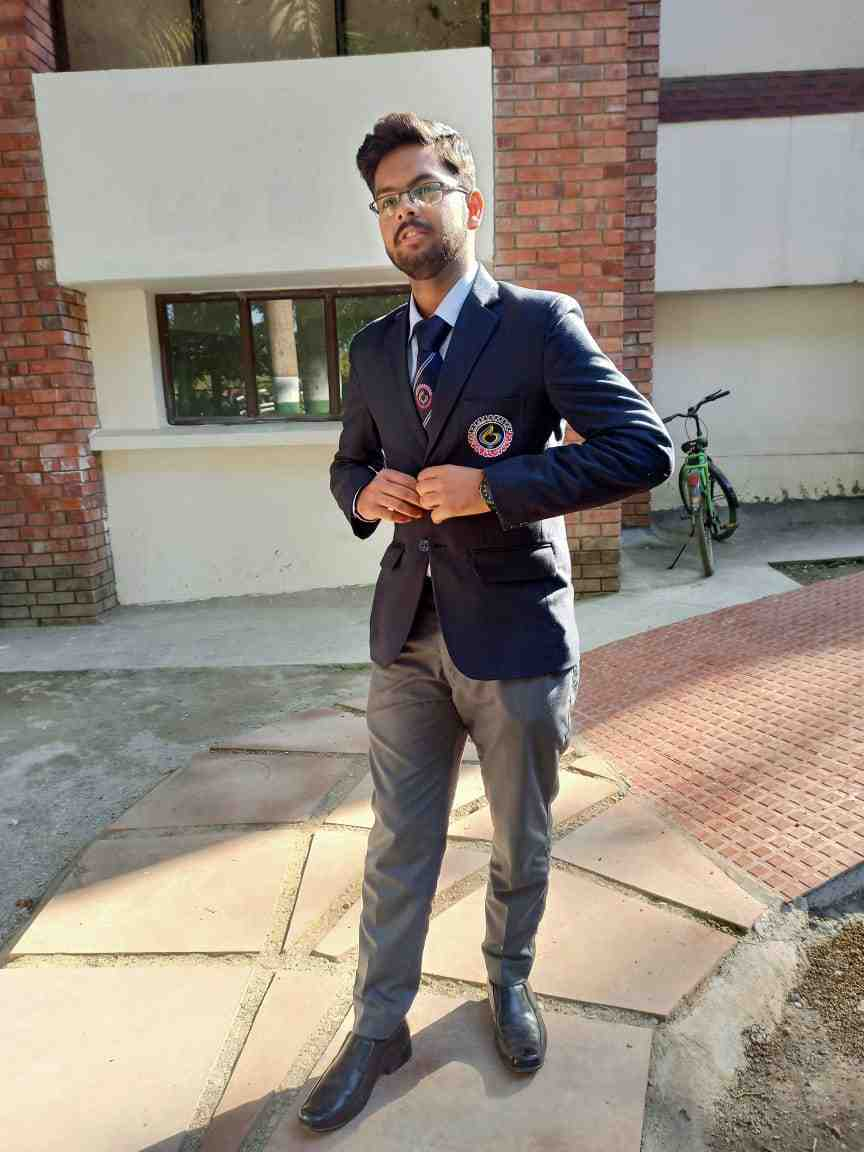blazer: (321, 299, 646, 677)
pant: (336, 613, 578, 1042)
tie: (407, 318, 460, 443)
